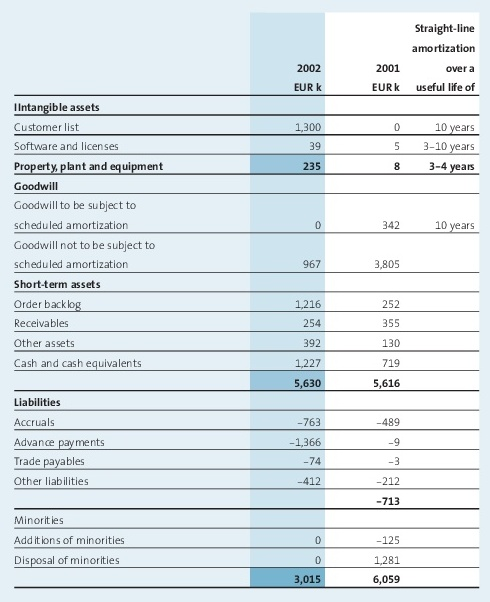table: (0, 0, 490, 602)
